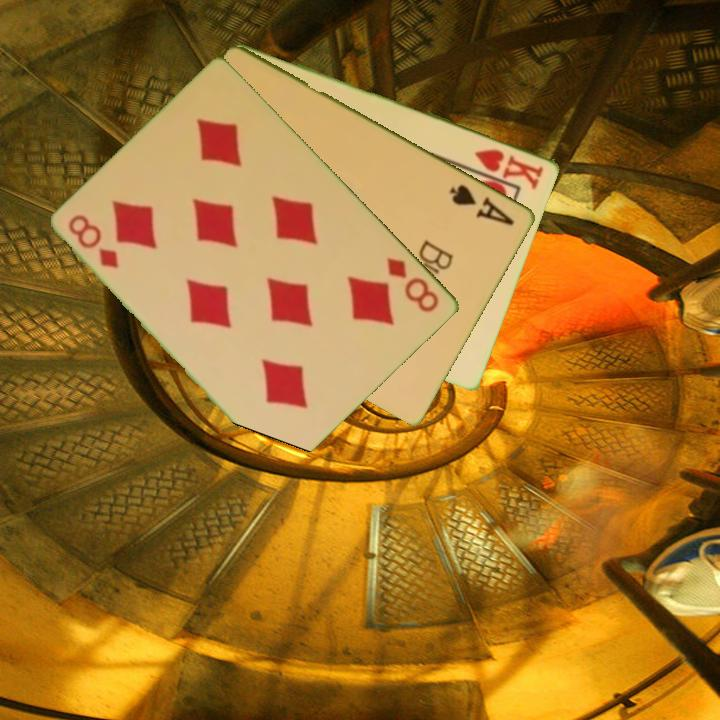8d: (384, 254, 443, 316), (65, 211, 122, 272)
As: (446, 180, 518, 228)
Kh: (471, 145, 547, 191)
